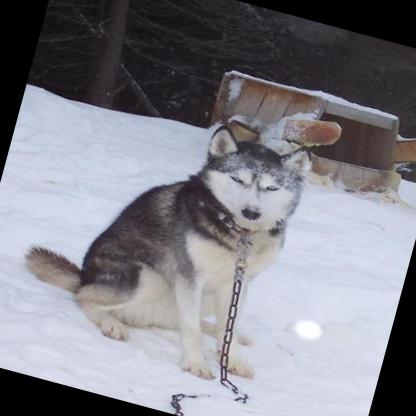Eskimo_dog: (0, 67, 333, 397)
